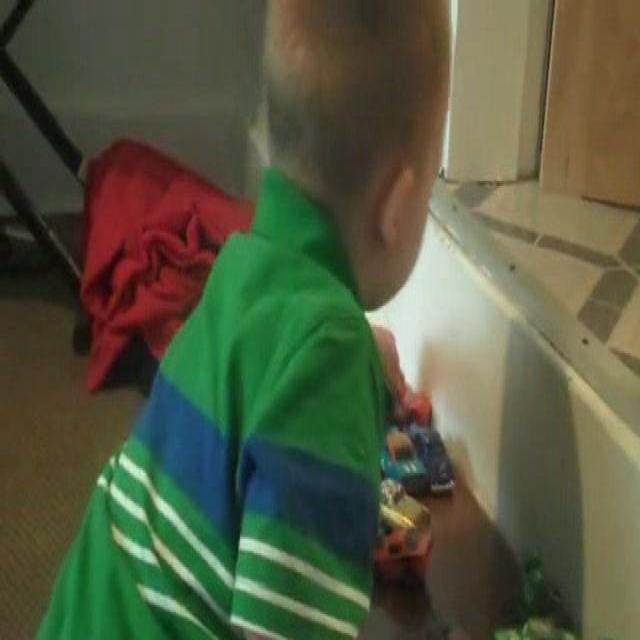other: (54, 126, 243, 335), (370, 472, 440, 591)
